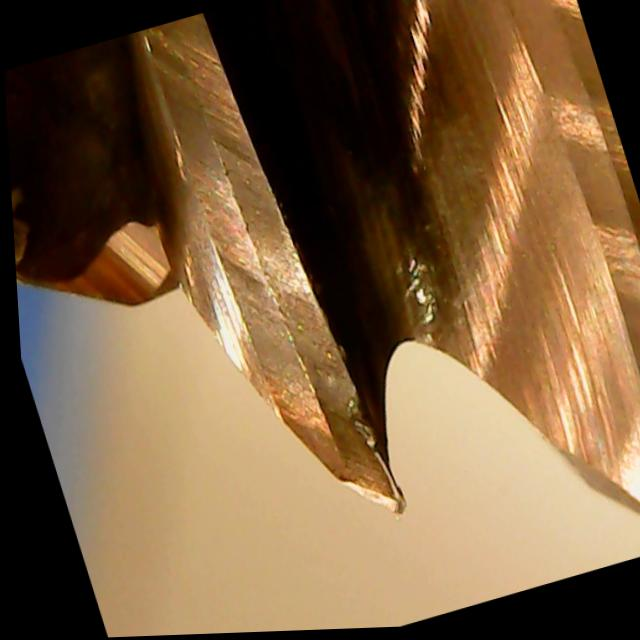Tool-wear-class-1: (196, 218, 411, 550)
